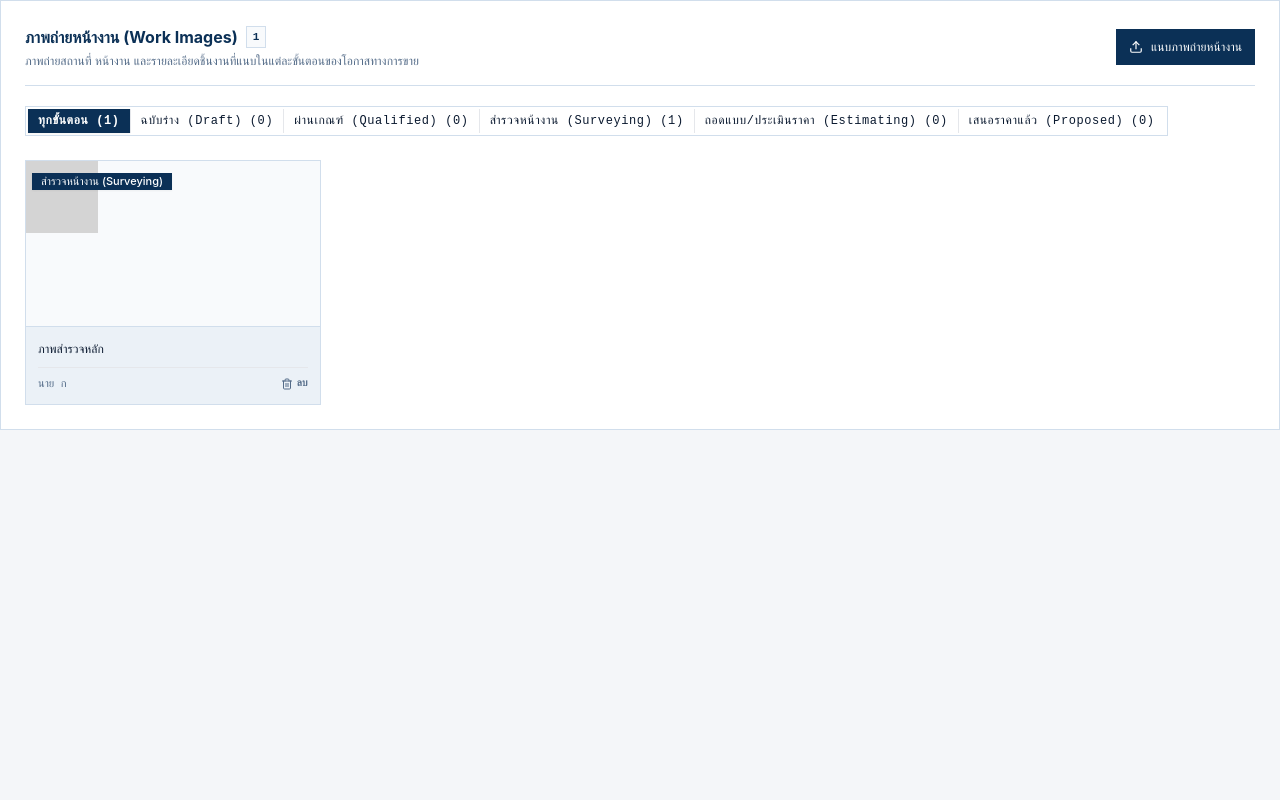
Test case: OpportunityWorkImagesSection Component › opens GalleryLightboxModal when clicking on an image card
Note: Click thumbnail container
Click the button with aria-label "ภาพสำรวจหลัก".
click(62, 197)  # box [26, 161, 320, 326]
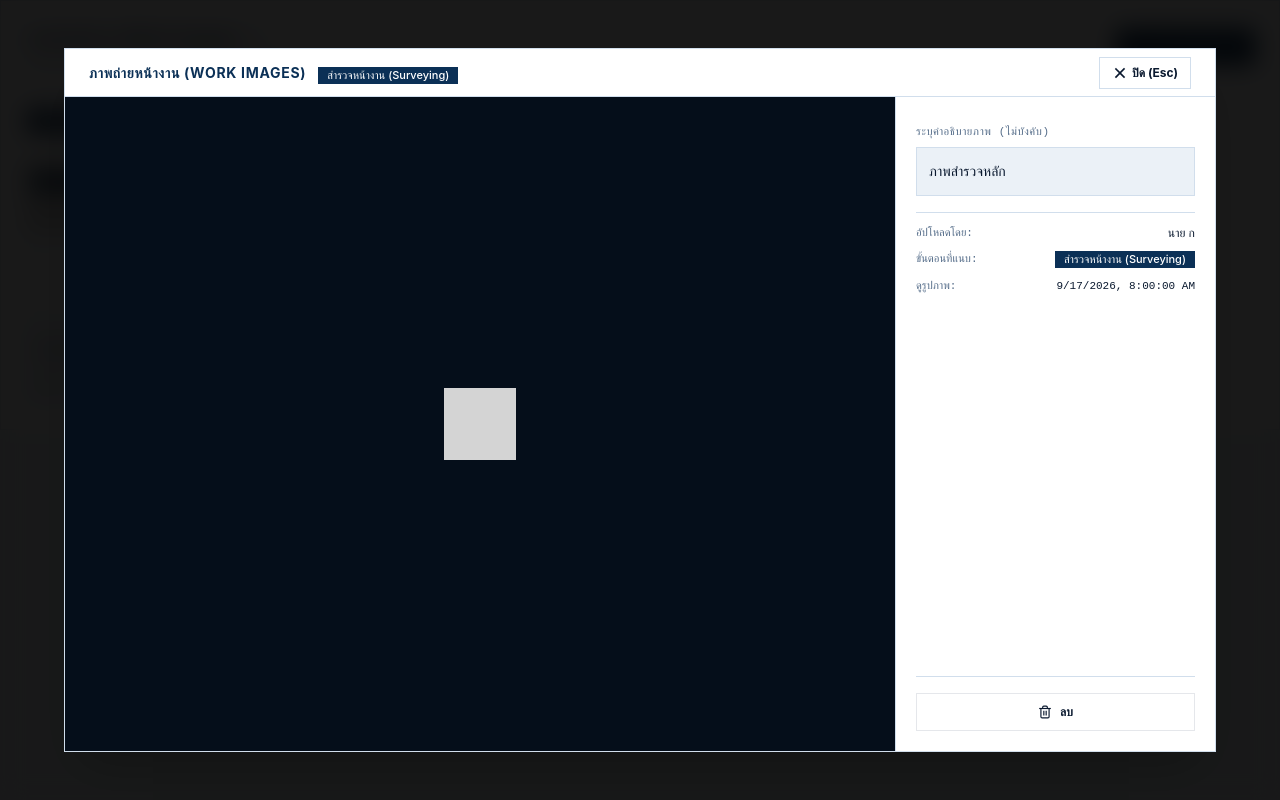
expect the dialog is shown: met
expect the button with aria-label "ปิดหน้าต่างรูปภาพ" is shown: met, box [1099, 56, 1191, 88]
